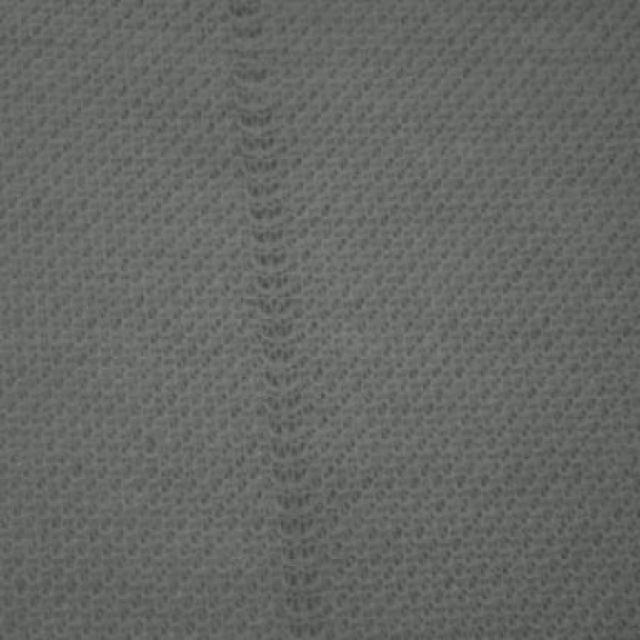Line: (223, 0, 322, 635)
